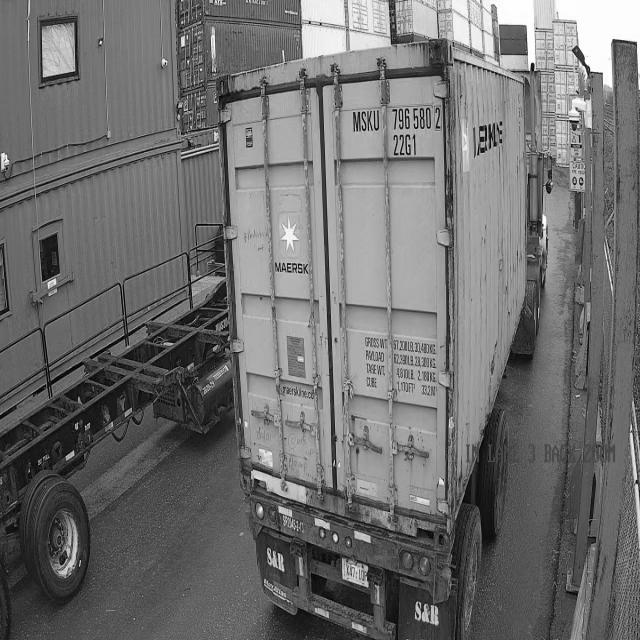container_company_logo: (275, 211, 310, 282)
container_number: (350, 104, 444, 164)
license_plate: (342, 561, 369, 590)
other_container_info: (359, 332, 442, 404)
truck_trailer: (0, 281, 232, 602)
truck_with_container: (218, 38, 552, 639)
